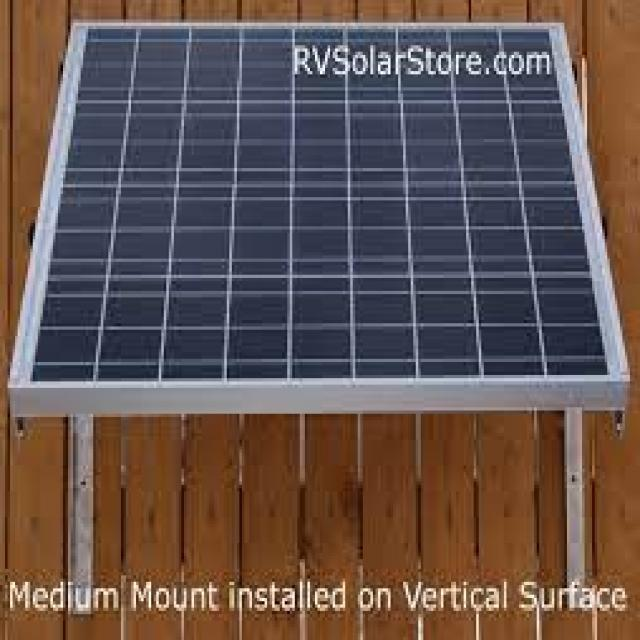no faulty: (23, 24, 610, 383)
